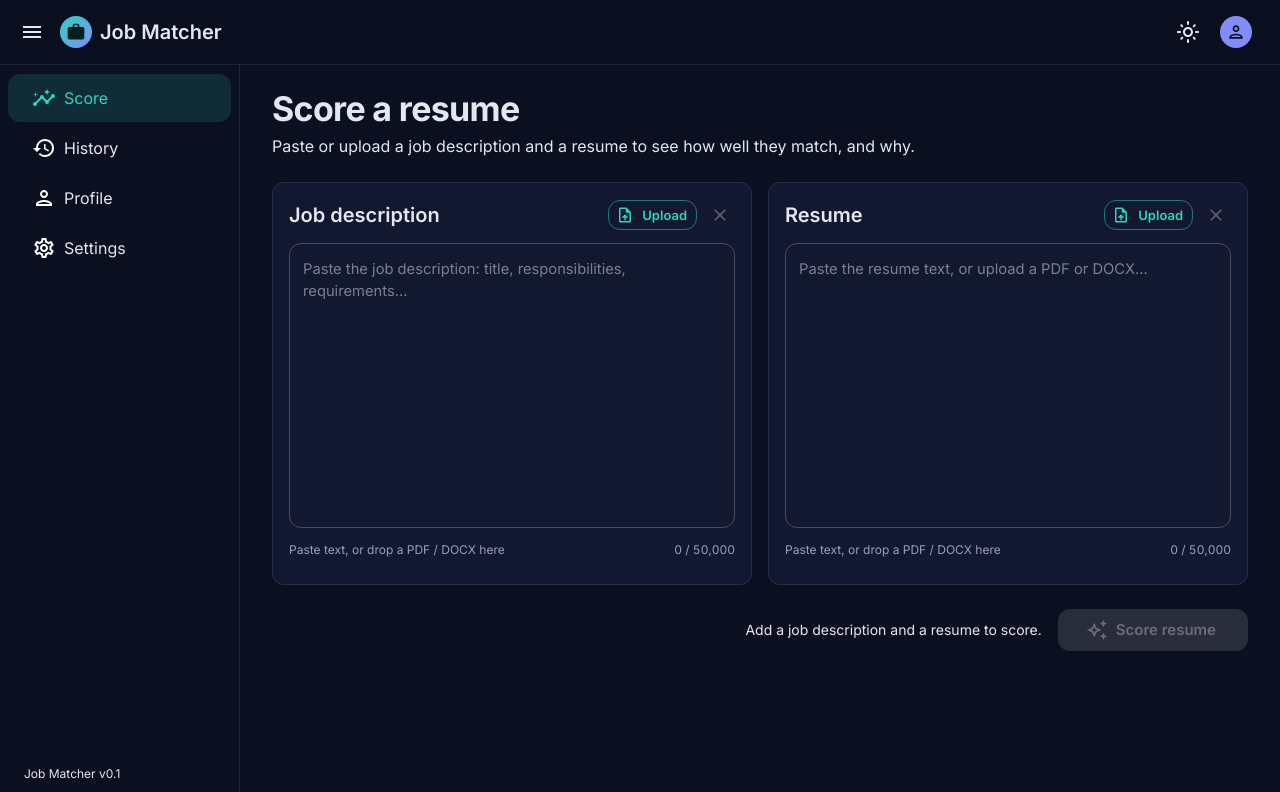
Scenario: result rendering resilience › renders a result from a backend that omits the advice lists
Replace the text in the text box labelled "Job description" with "Senior Java Developer. Requires Java, Spring, SQL and 5+ years of experience." at (512, 386), box [303, 260, 721, 512]
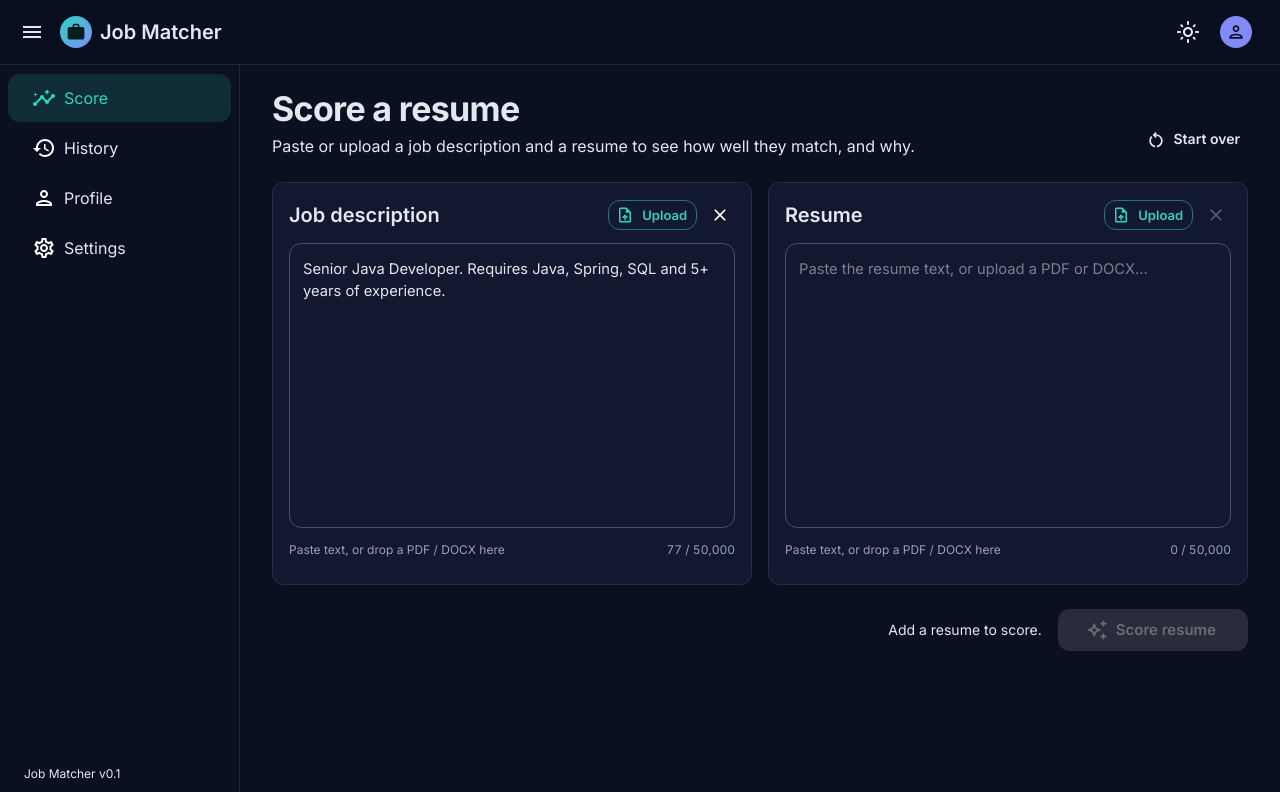
Type "Alex Rivera. Senior engineer, 8 years of Java and Spring Boot at PayStream." into the text box labelled "Resume" at (1008, 386), box [799, 260, 1217, 512]
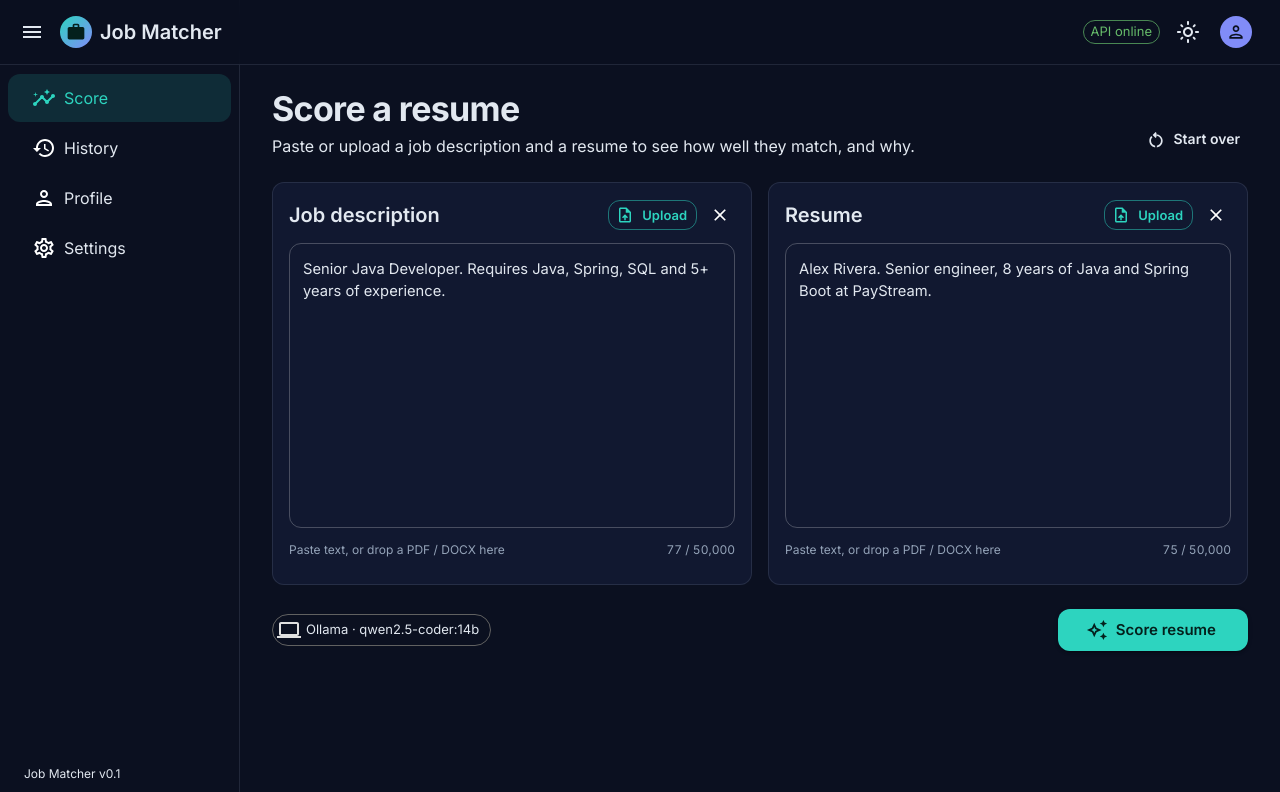
Click the button "Score resume" at (1153, 630), box [1058, 609, 1248, 651]
(page scrolled)
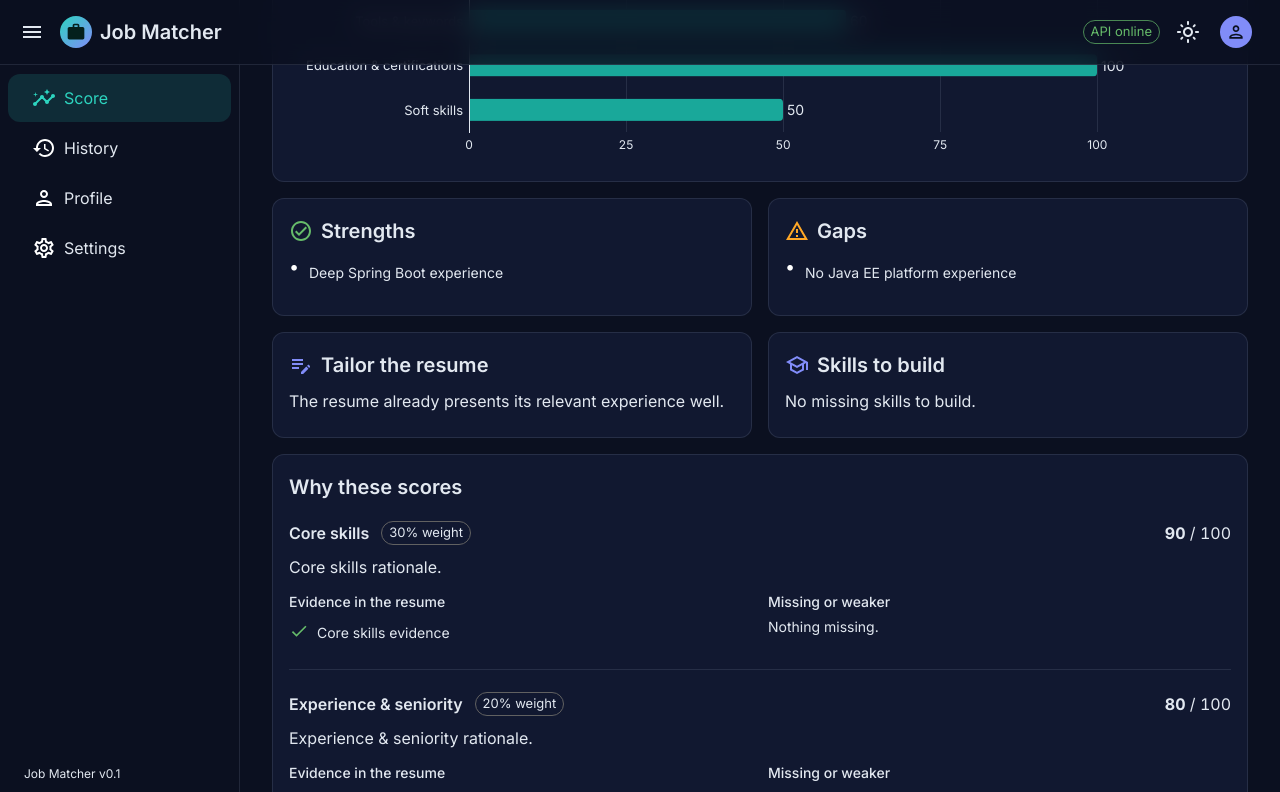
Check: the text "No missing skills to build." is shown, box [785, 391, 976, 411]
